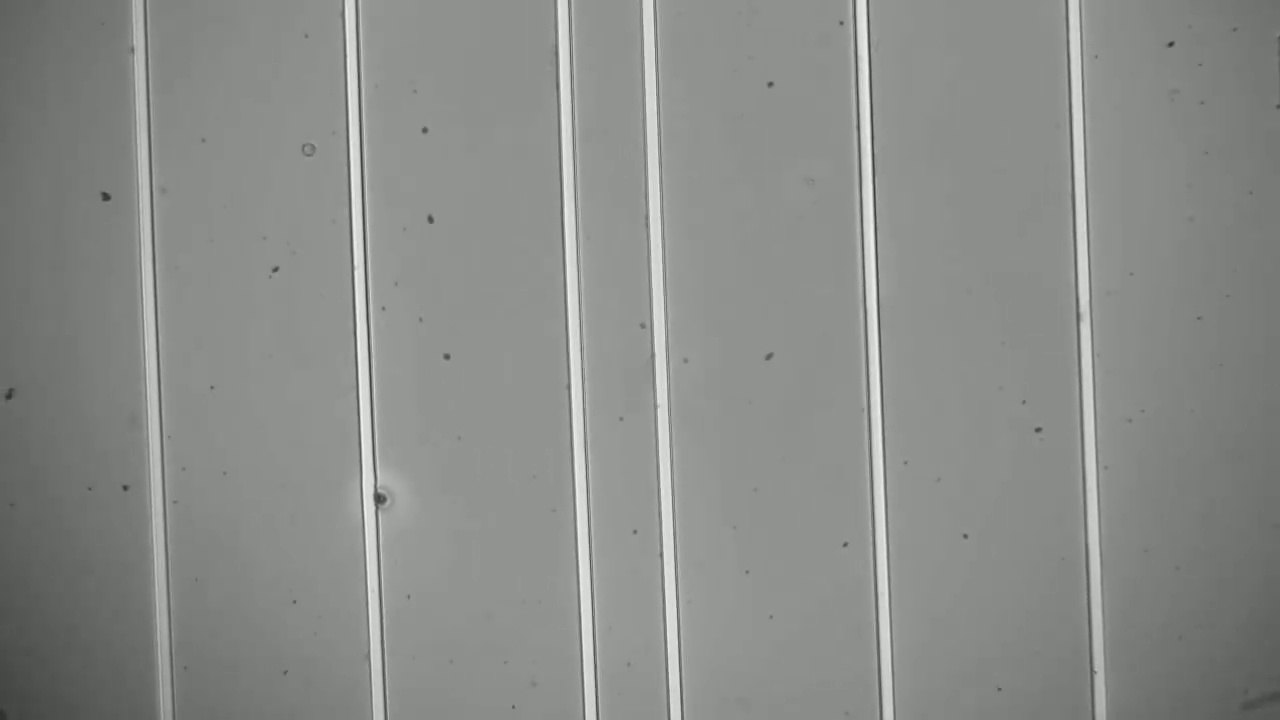stains_enbedded: (360, 477, 394, 515)
